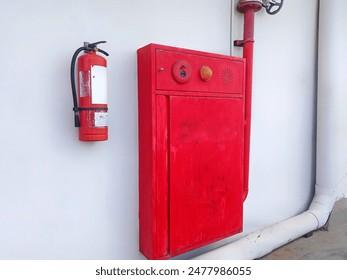cabinet: (137, 42, 246, 260)
wall-mounted: (62, 30, 120, 154)
